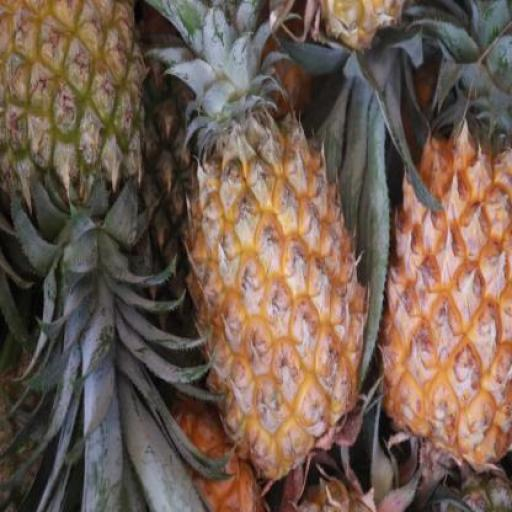------------------------------: (0, 0, 148, 222)
Pineapple - v8 v1: (180, 117, 373, 477), (384, 123, 512, 474)
